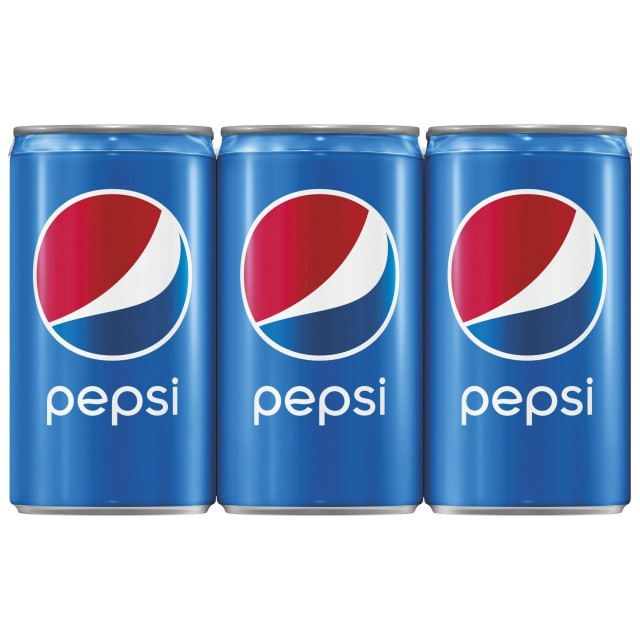pepsi: (444, 187, 609, 365), (31, 188, 189, 369), (242, 183, 398, 362)
